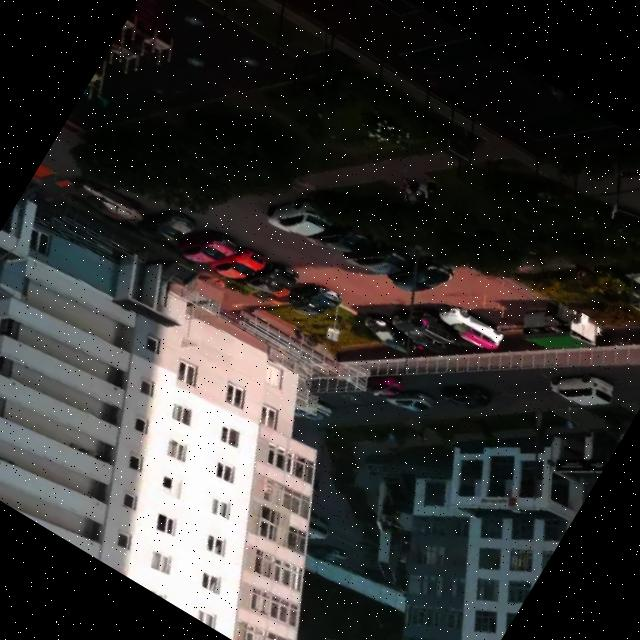car: (71, 176, 147, 226), (431, 307, 507, 355), (410, 307, 476, 349), (264, 198, 334, 237), (390, 311, 450, 355), (386, 257, 456, 294), (363, 314, 423, 356), (547, 375, 619, 409), (342, 242, 411, 275), (173, 232, 239, 263), (208, 248, 268, 279), (288, 282, 341, 317), (241, 262, 299, 293), (140, 210, 198, 241), (302, 226, 365, 252), (434, 386, 496, 411), (383, 392, 438, 416), (311, 547, 347, 571), (298, 404, 330, 425)
